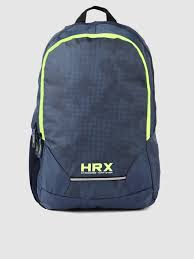backpack: (28, 5, 160, 210)
